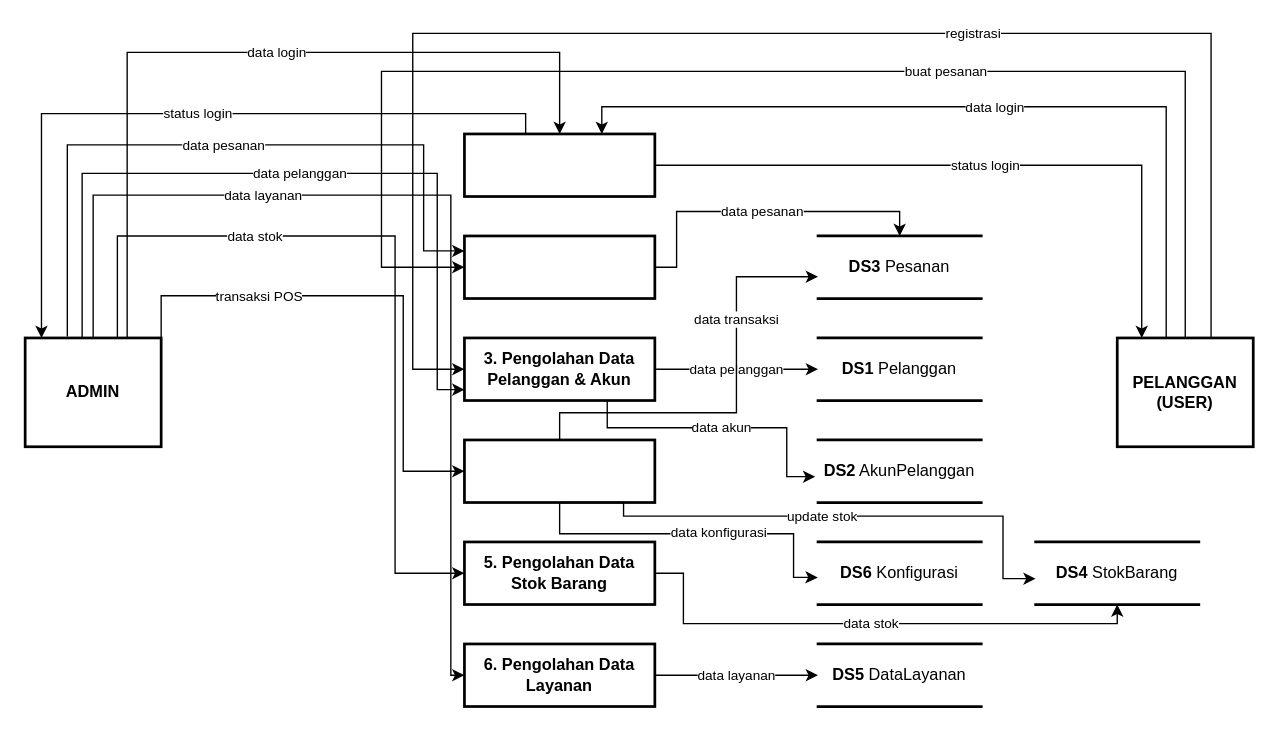
The diagram is 1277 pixels wide and 732 high, and some of its shapes have lost their labels. Here are the shapes that lost their labels. From the top down, the centre of each, then its label:
At pixel 559 164: "1. Verifikasi Login".
At pixel 559 266: "2. Pengolahan Data Pesanan".
At pixel 559 470: "4. Transaksi POS & Laporan".
